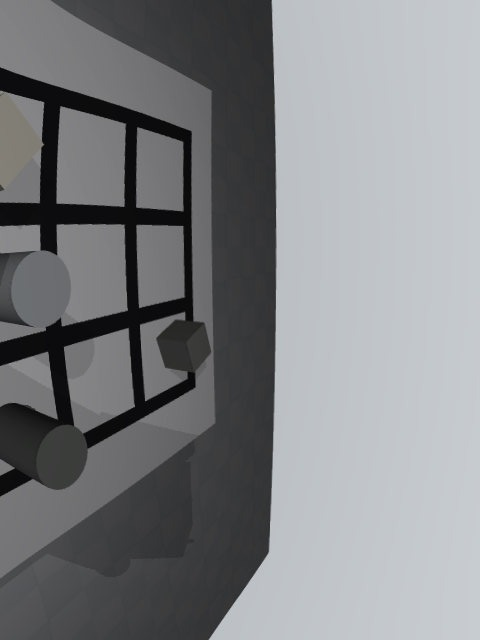can: (0, 250, 71, 328)
cube: (156, 320, 211, 373)
cylinder: (0, 403, 88, 490)
foam: (0, 92, 44, 191)
